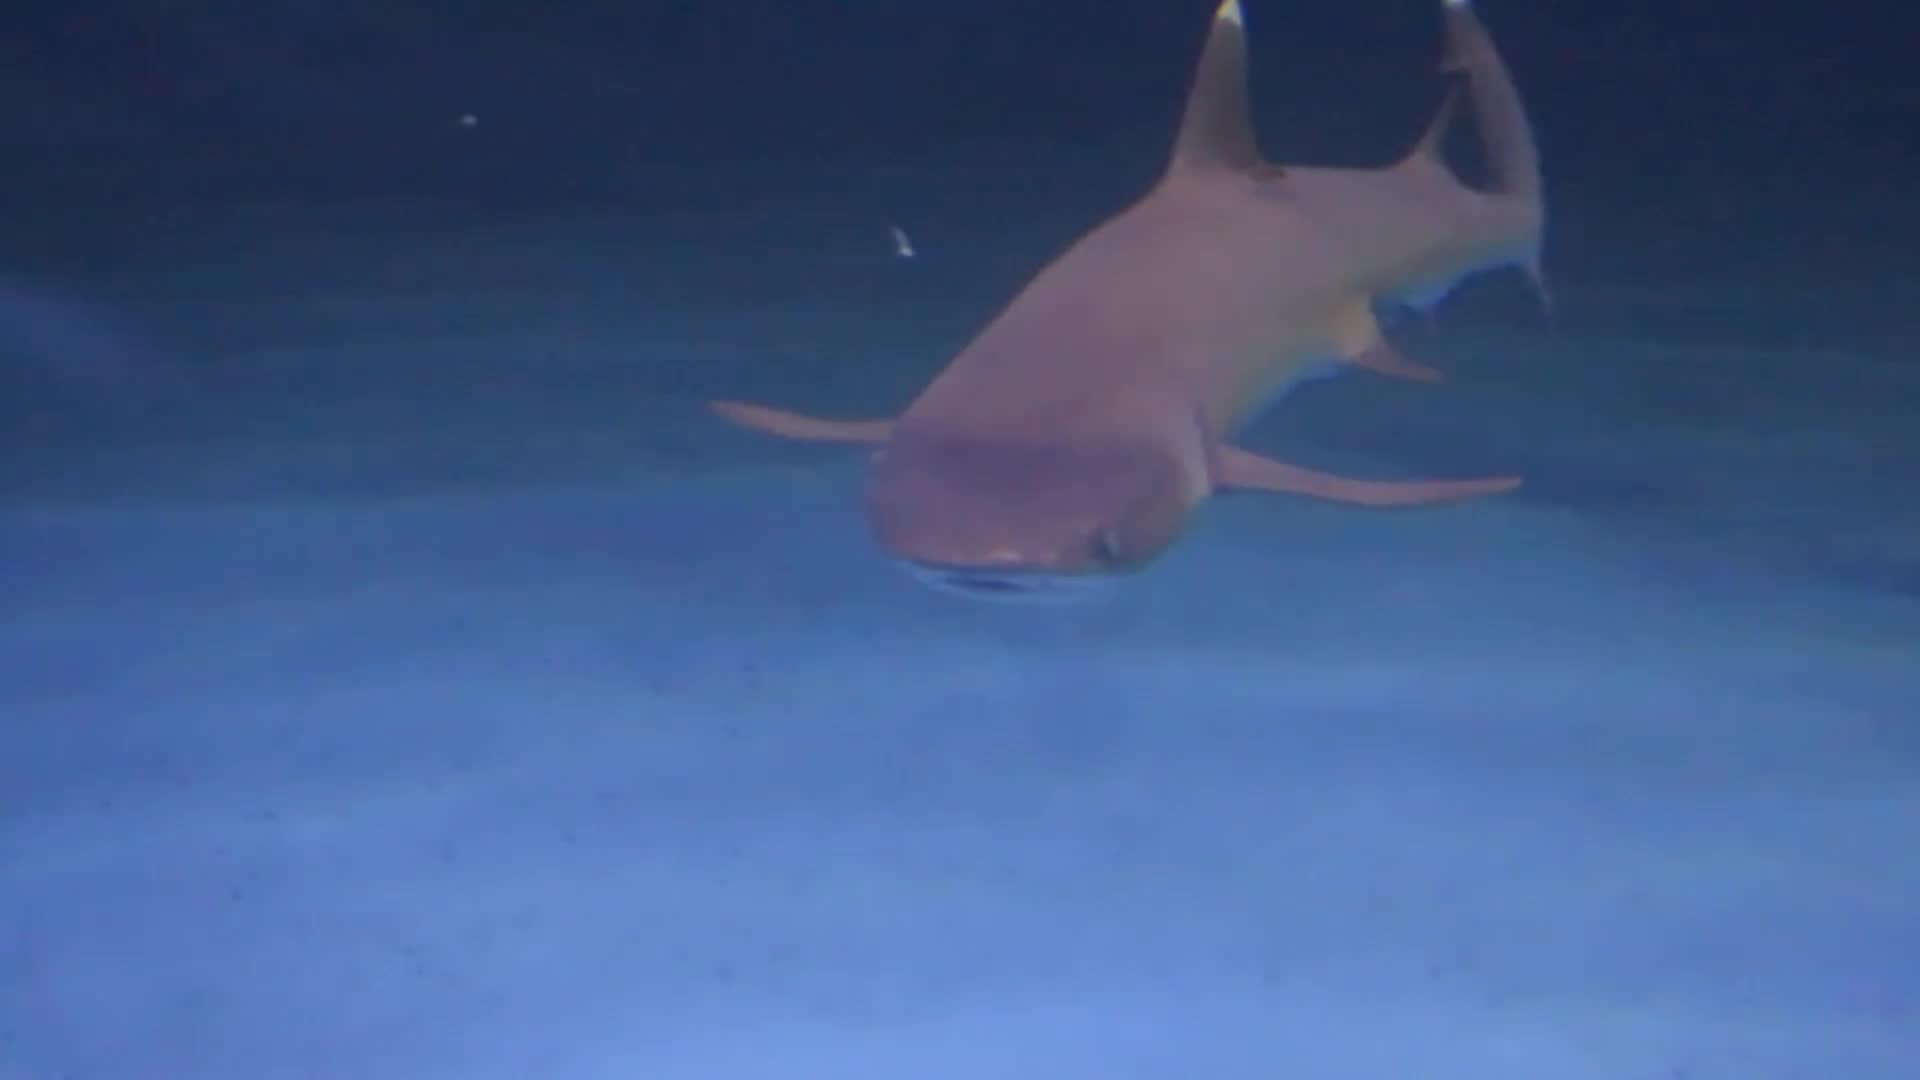Triaenodon obesus: (680, 1, 1625, 671)
